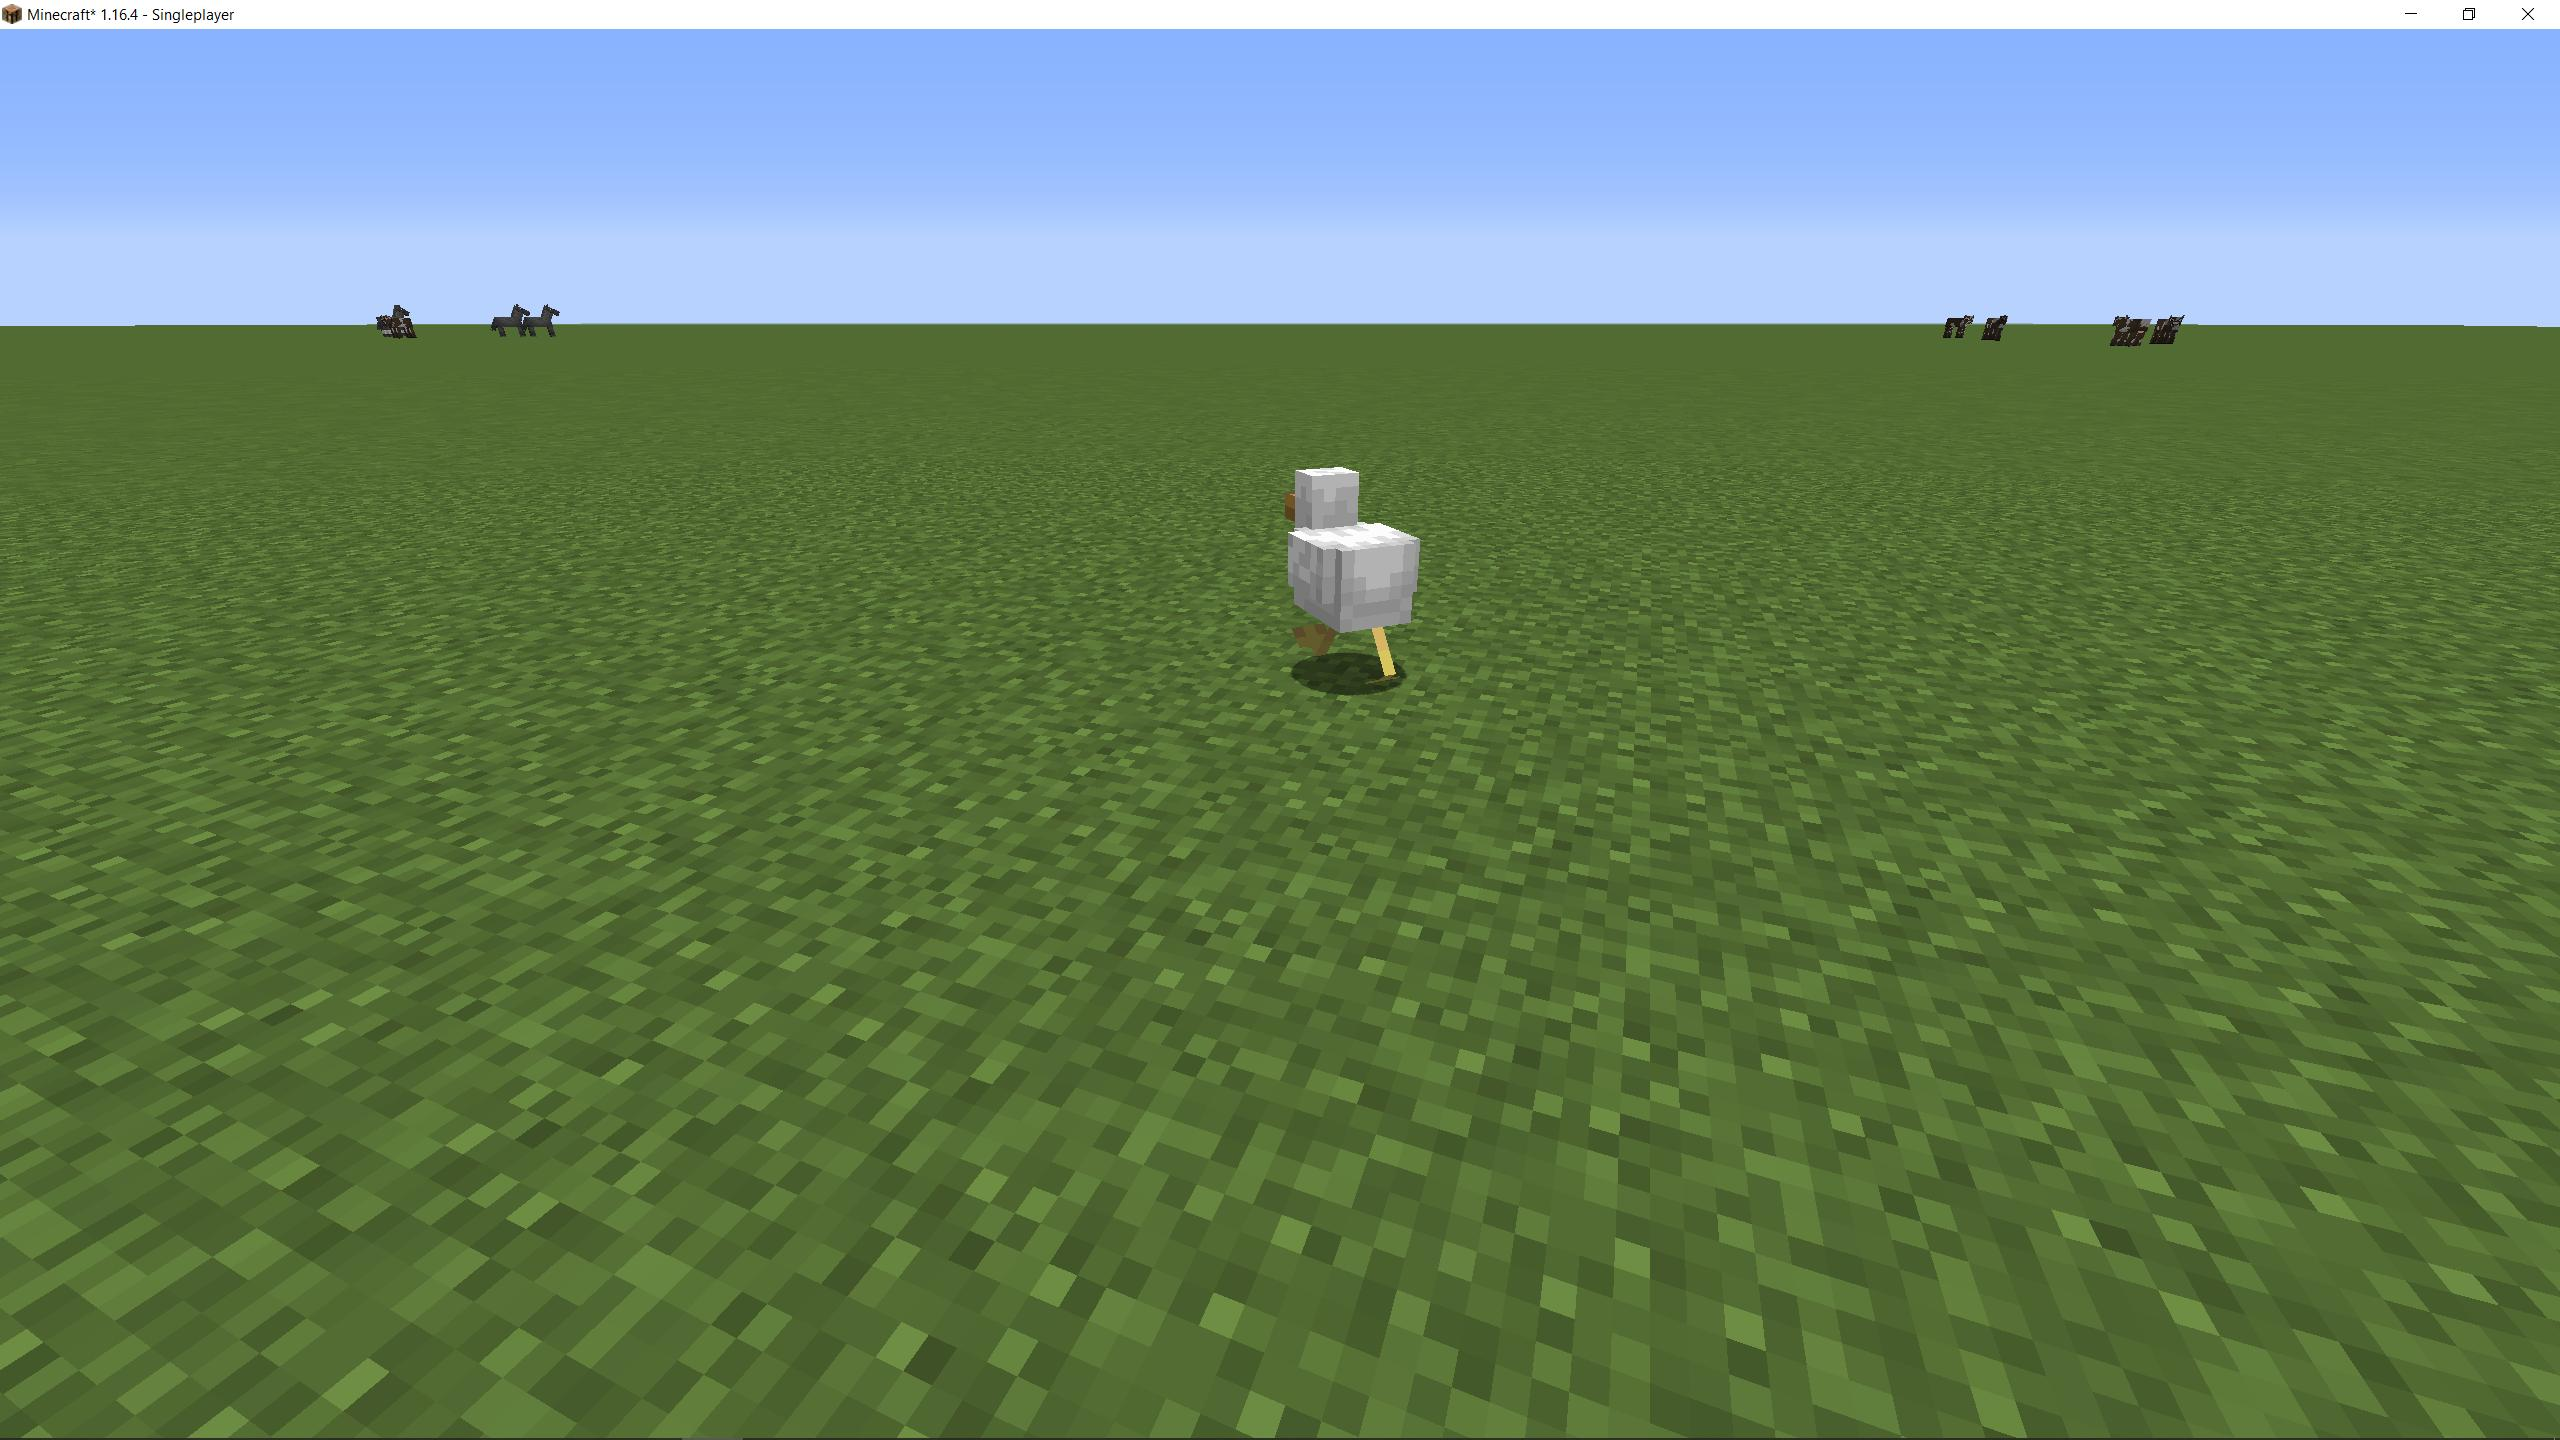chicken: (1276, 452, 1429, 698)
